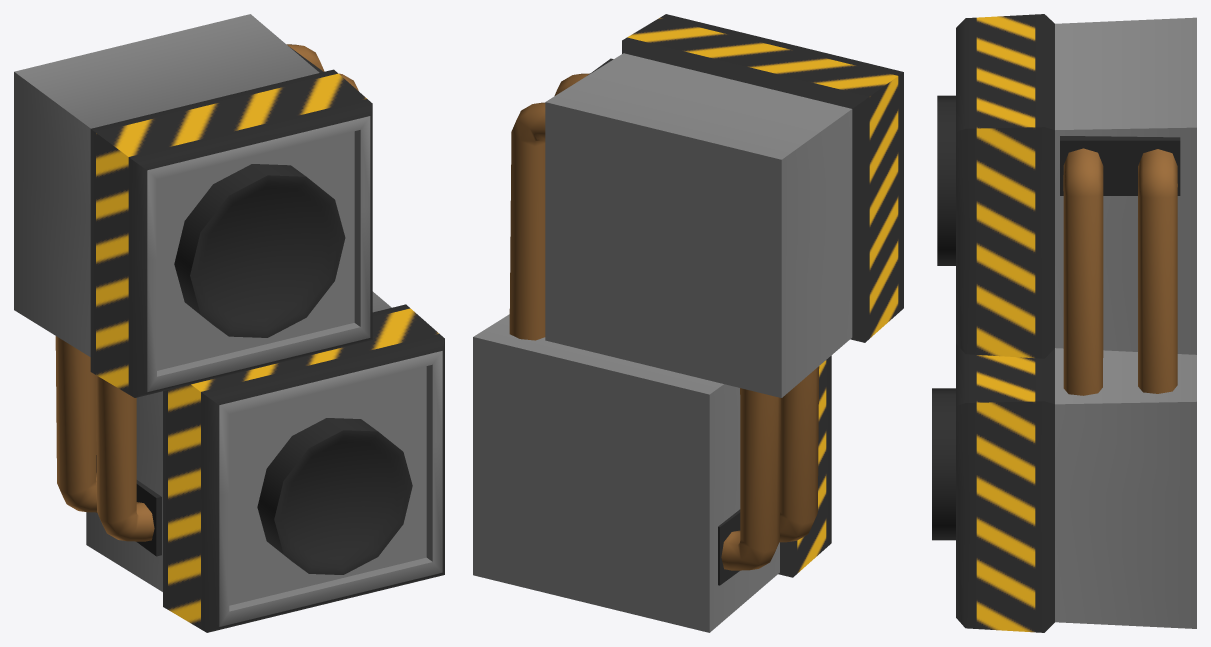
3 renders of one model, left to right at view 1: azimuth 30°, elevation 25°; view 2: azimuth 150°, elevation 25°; view 3: azimuth 270°, elevation 25°, orthographic. The views are drawn at different scales.
Visible parts, largest first — view 1: AC_Stacked; view 2: AC_Stacked; view 3: AC_Stacked.
Boxes of the visible parts, left/top/right/bottom form: AC_Stacked: left=14, top=14, right=444, bottom=632; AC_Stacked: left=473, top=14, right=903, bottom=632; AC_Stacked: left=932, top=14, right=1196, bottom=632.
Size of the model in its own units: 0.6701 by 1.01 by 0.5115.
4 materials, 1 textured.
